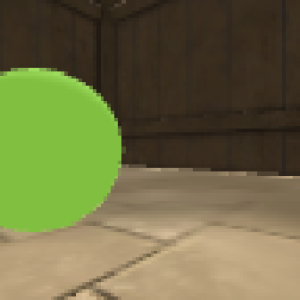goodGoal: (1, 62, 123, 235)
